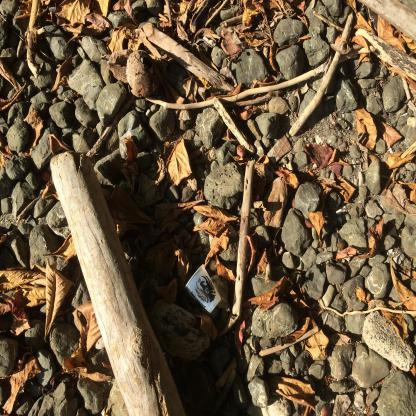karton: (186, 264, 222, 314)
